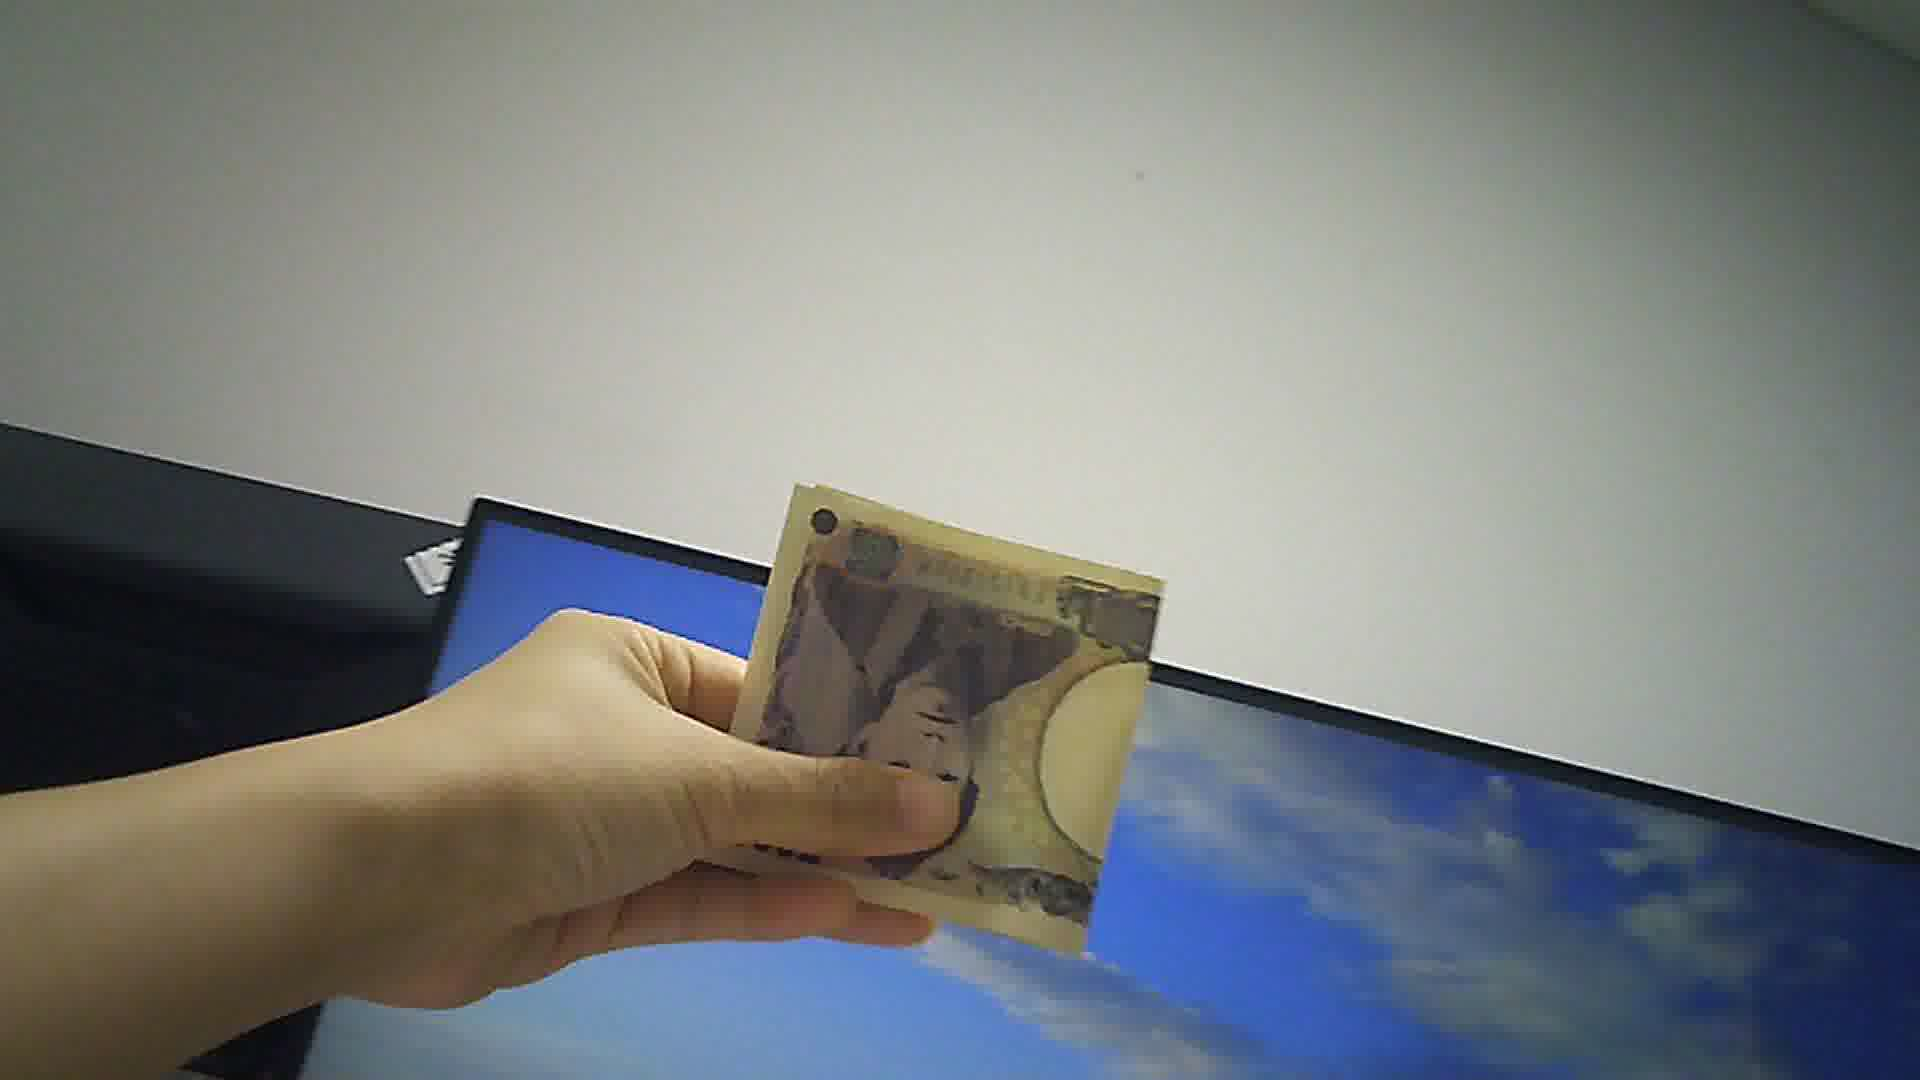5,000 Yen: (698, 473, 1179, 960)
